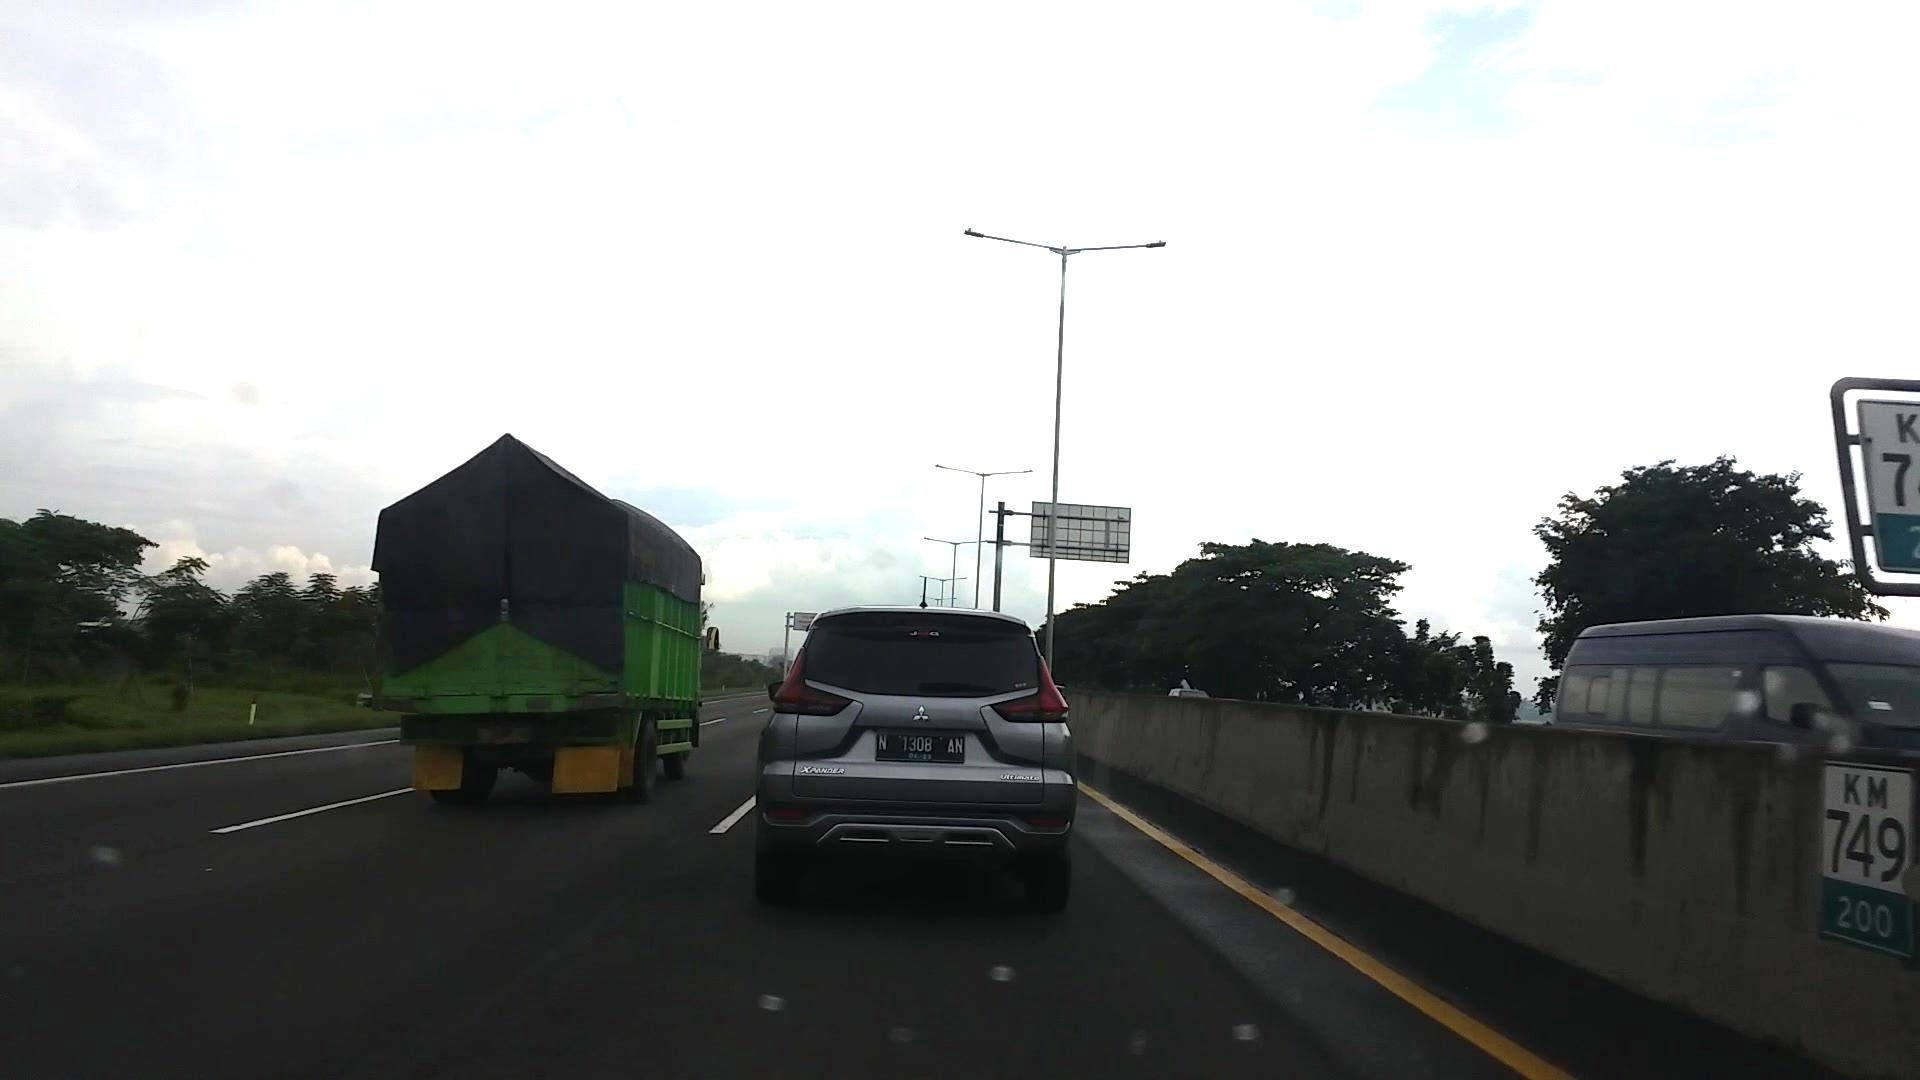plate_positive: (876, 731, 965, 764)
